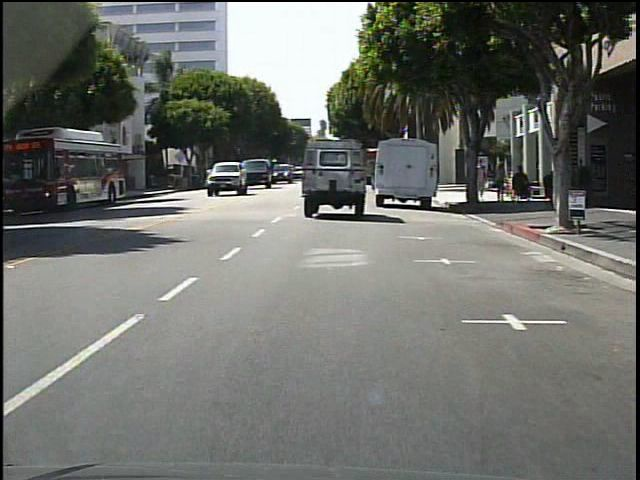person: (473, 158, 490, 204), (495, 163, 509, 203)
